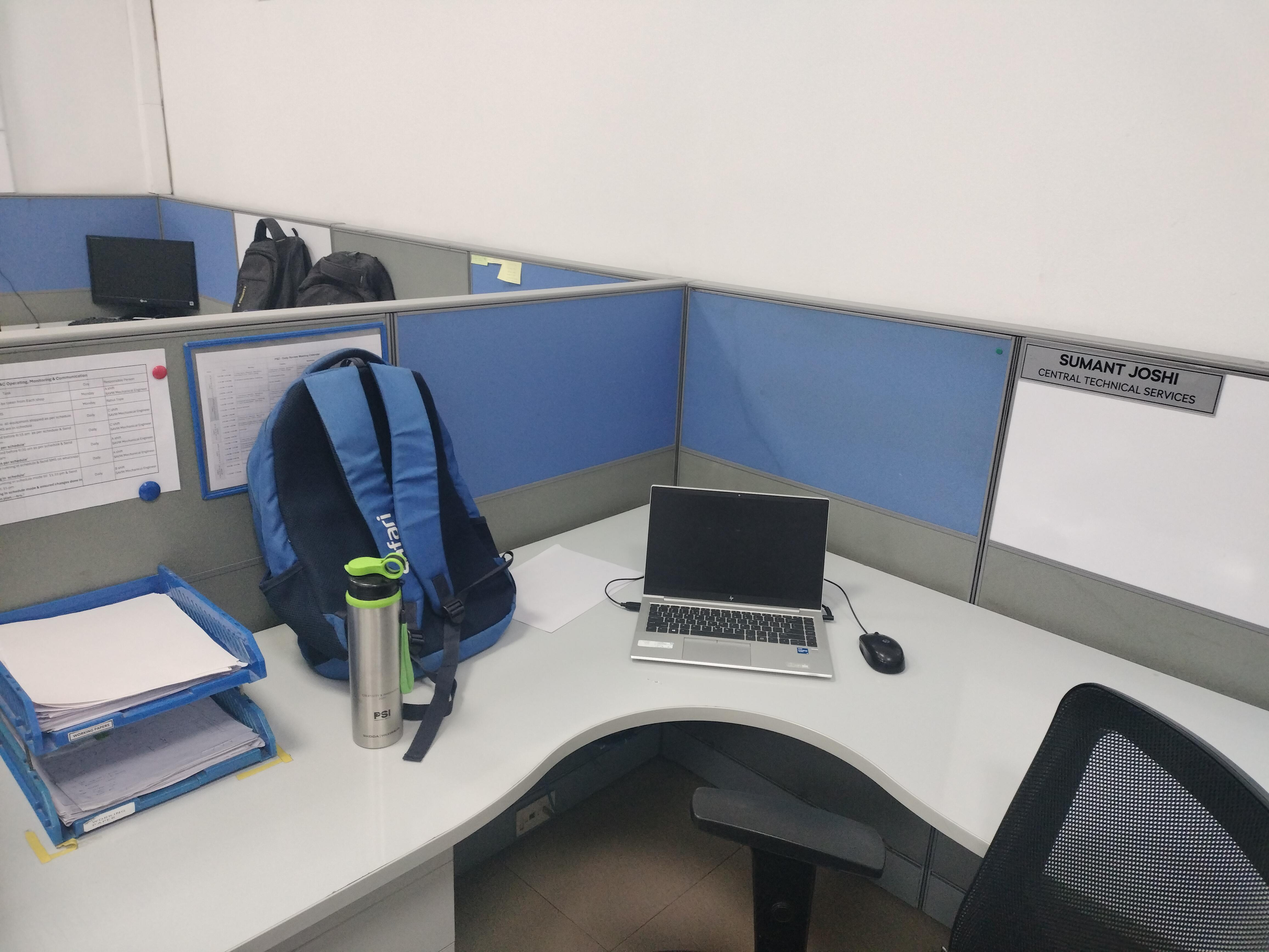bag: (247, 347, 518, 763)
bottle: (344, 553, 418, 750)
calender: (180, 320, 392, 501)
filetray: (0, 560, 281, 852)
laptop: (625, 483, 833, 679)
mouse: (857, 631, 906, 678)
nameplate: (1013, 335, 1230, 423)
page: (0, 590, 251, 737), (0, 346, 183, 528), (28, 698, 268, 830), (510, 542, 644, 636)
